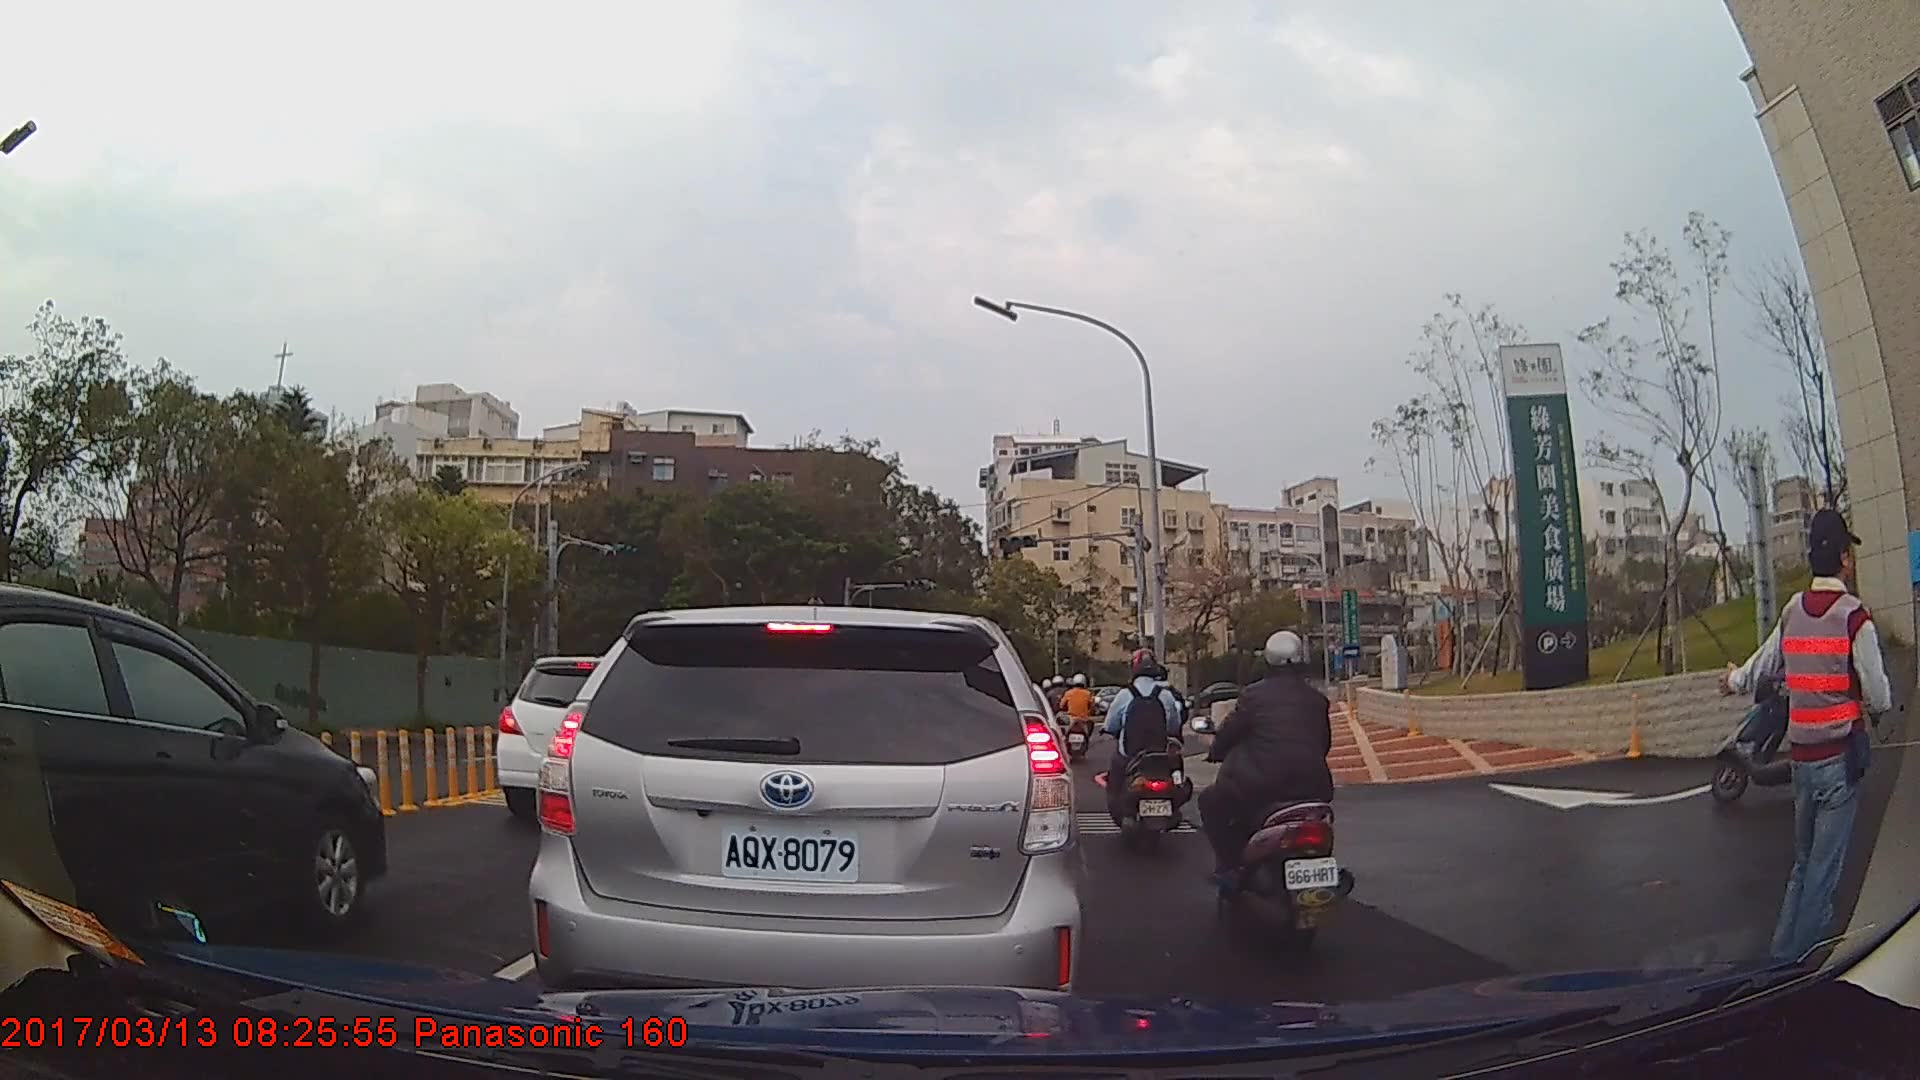pedestrian: (1737, 509, 1894, 995)
rider: (1197, 628, 1353, 953), (1720, 617, 1876, 803), (1108, 643, 1187, 853), (1061, 673, 1096, 757)
vehicle: (527, 604, 1089, 1042), (0, 580, 389, 954), (496, 656, 649, 815), (1183, 677, 1252, 713)
